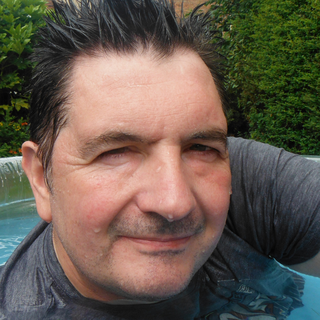eye: (90, 141, 142, 165), (179, 135, 223, 161)
